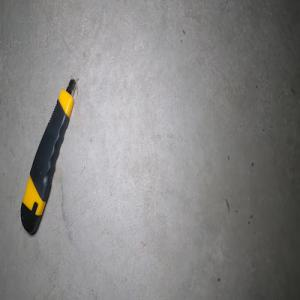Cutter: (19, 78, 77, 235)
